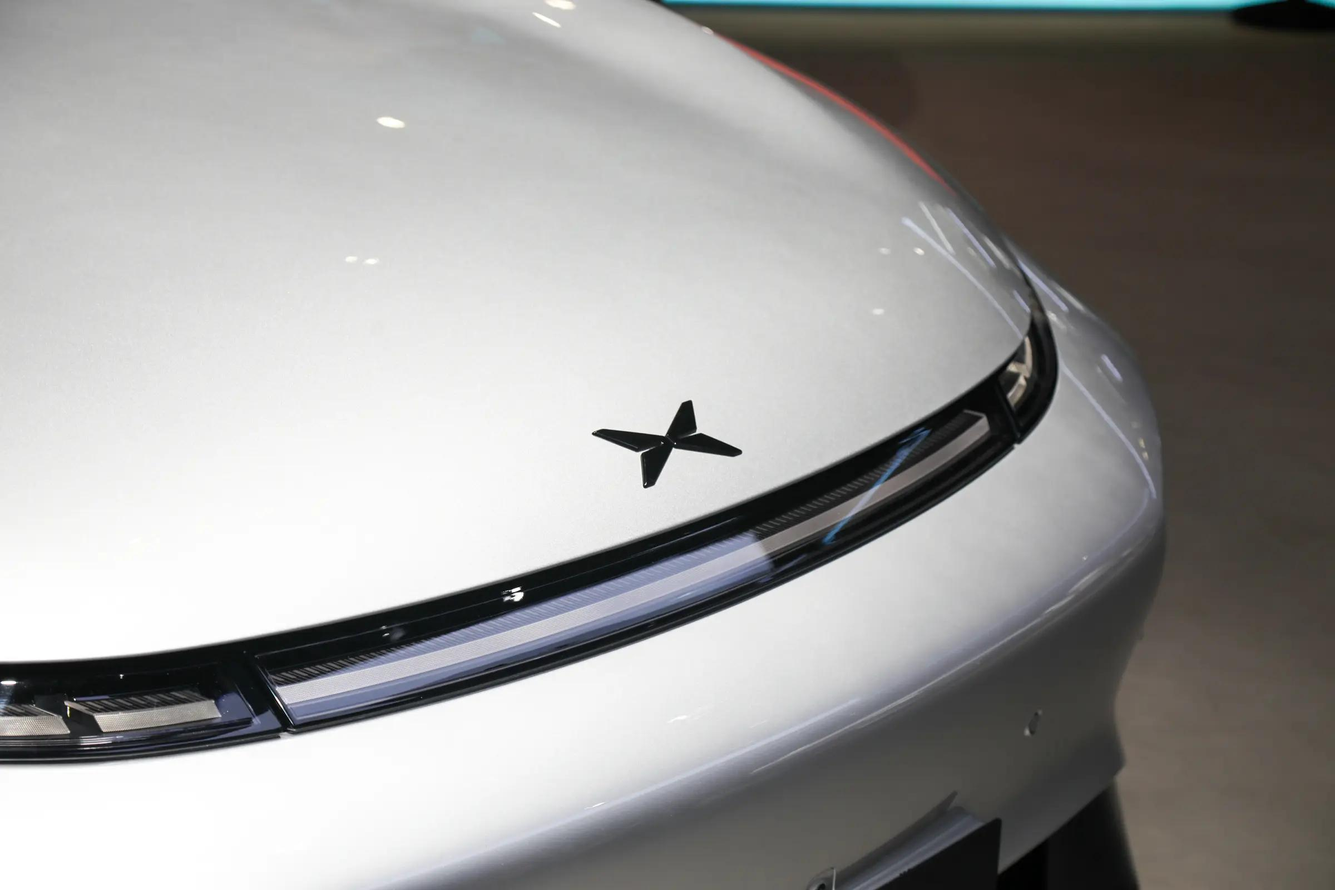XPeng Motors: (592, 400, 743, 488)
